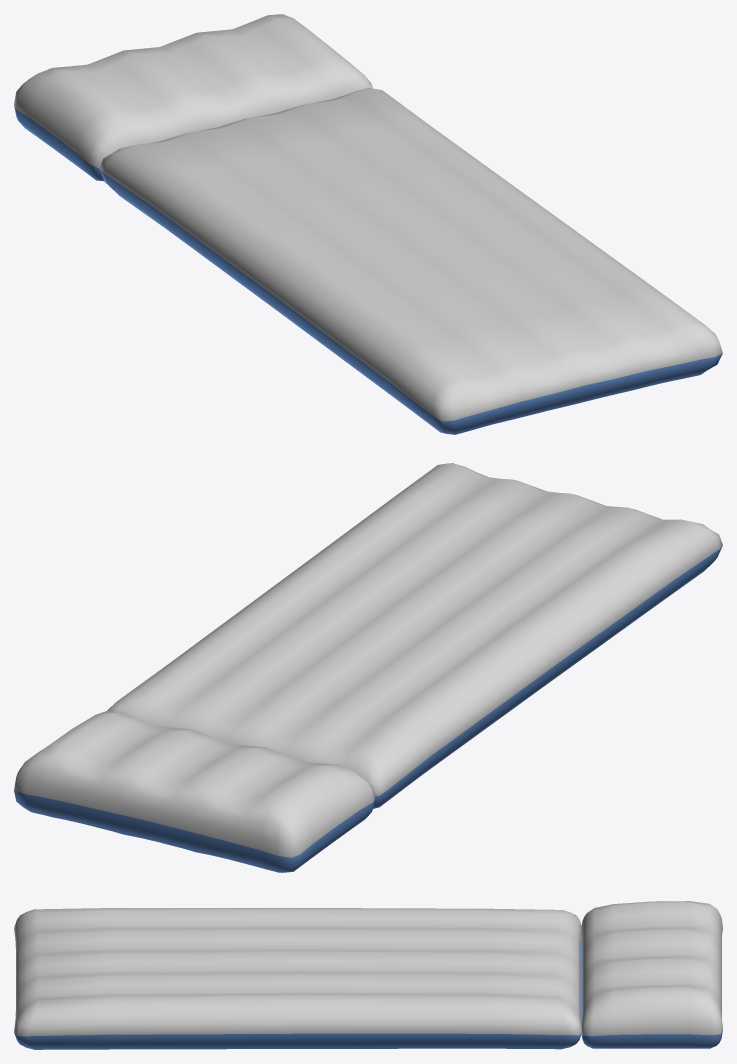
File: sweethome3d-scopia-air-mattress.glb
The picture shows the model from 3 angles, top to bottom: view 1: azimuth 30°, elevation 25°; view 2: azimuth 150°, elevation 25°; view 3: azimuth 270°, elevation 25°; orthographic projection. The views are drawn at different scales.
Visible parts, largest first — view 1: Cube.001; view 2: Cube.001; view 3: Cube.001.
Part boxes in pixels (x1,y1,x2,y2): Cube.001: (14,14,722,434); Cube.001: (14,463,722,872); Cube.001: (14,901,722,1049).
Bounding box in the file's own units: 69.36 × 15.8 × 182.
